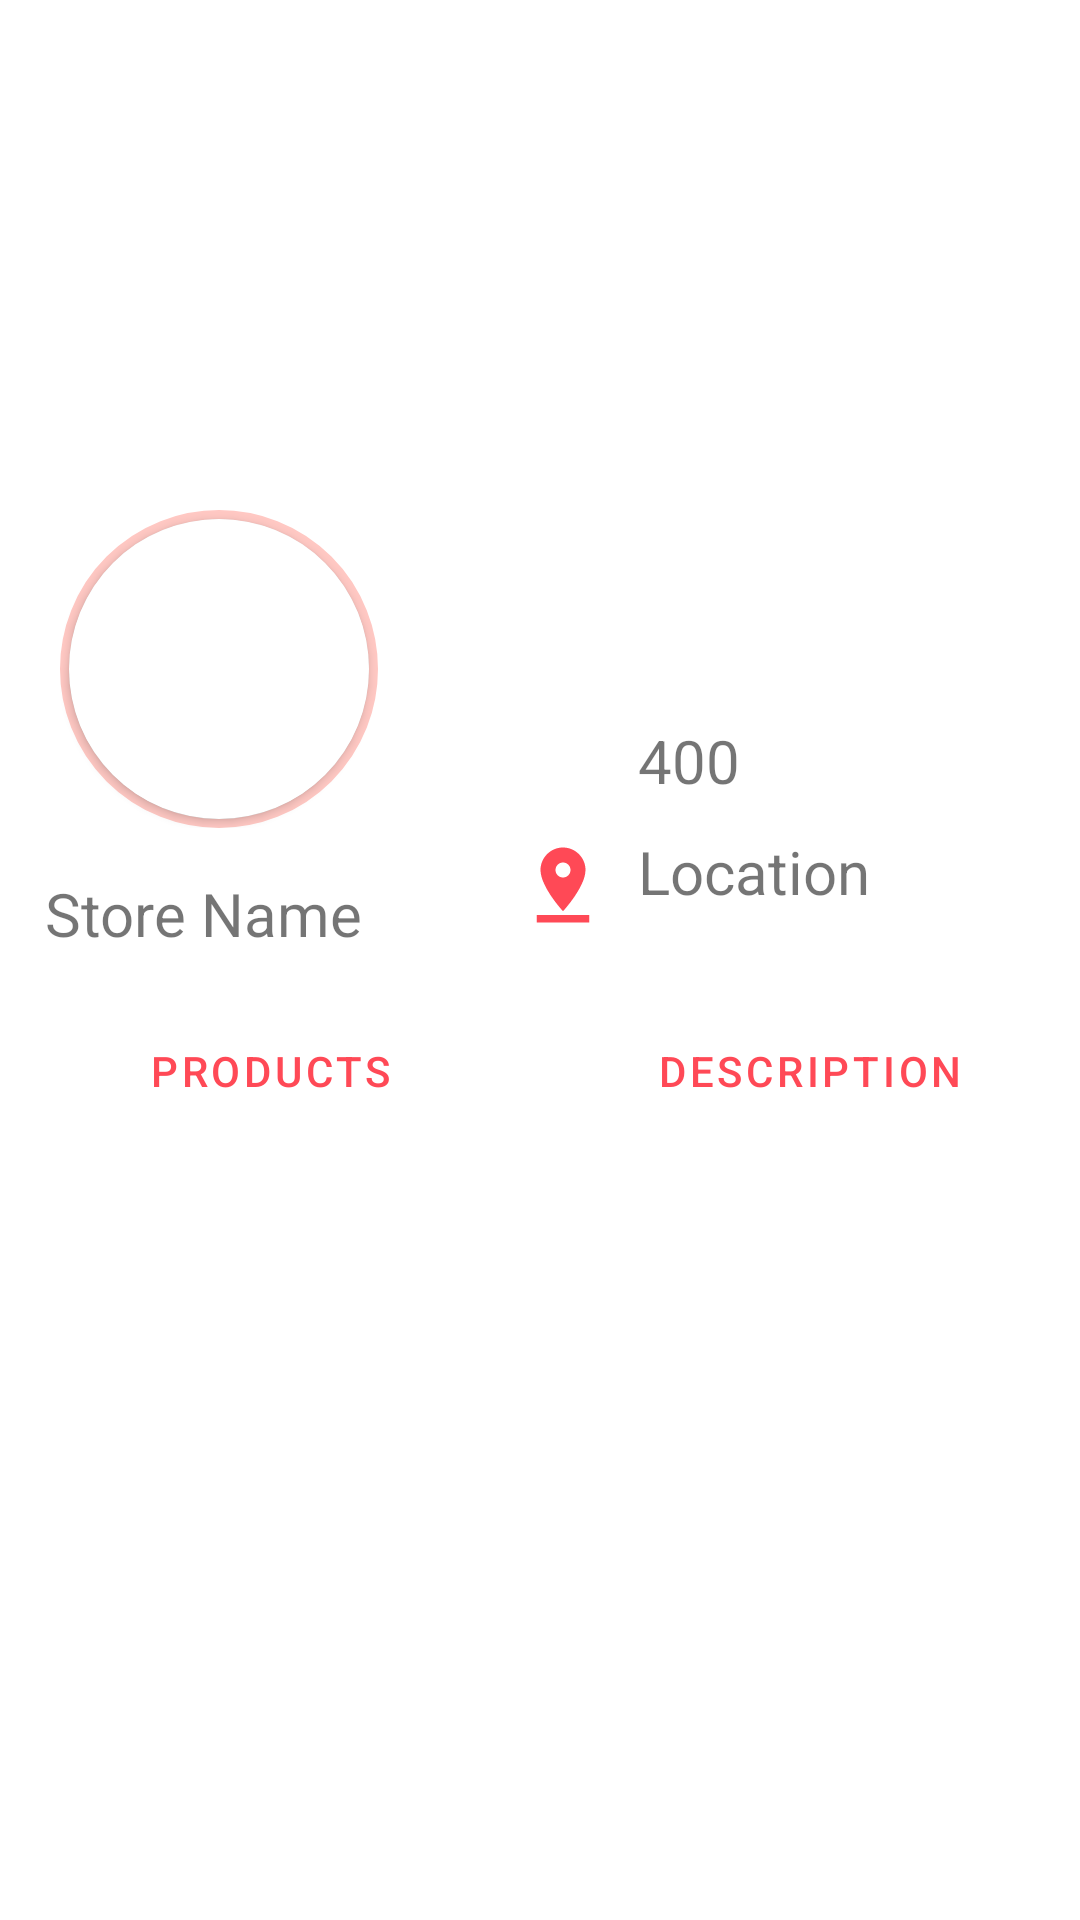

Icons on this 1080*1920 Android screen, each with the point to tap as (x,y):
map: (563,885)
